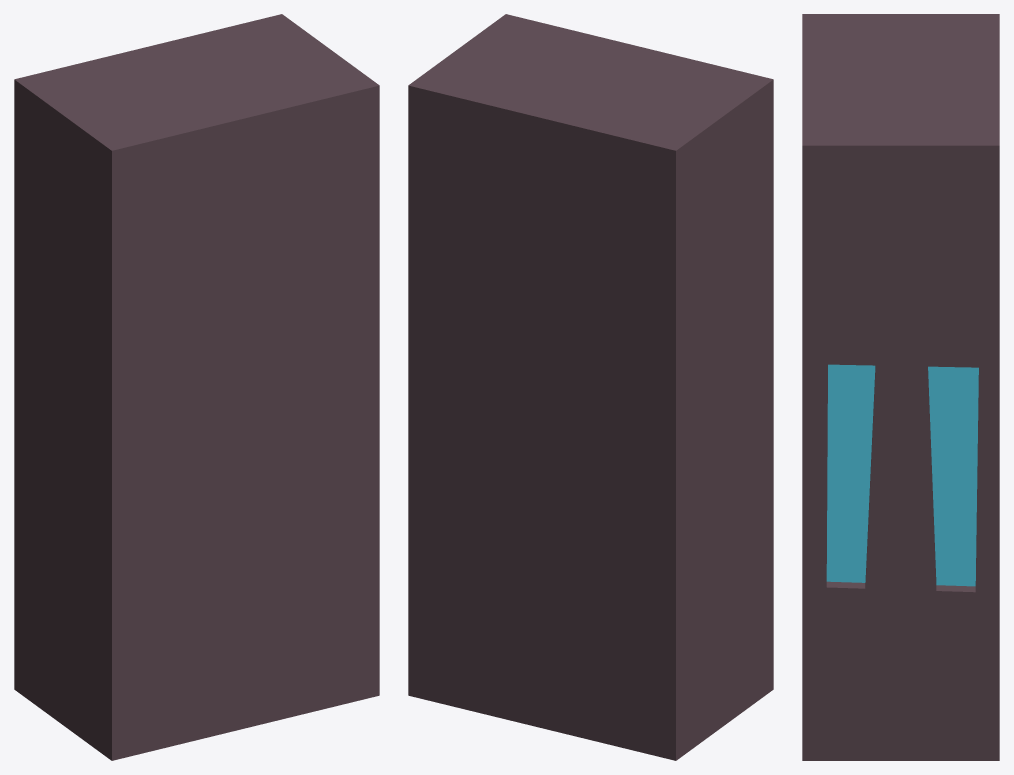
File: Building2.fbx
The picture shows the model from 3 angles, left to right: view 1: azimuth 30°, elevation 25°; view 2: azimuth 150°, elevation 25°; view 3: azimuth 270°, elevation 25°; orthographic projection.
Visible parts, largest first — view 1: Building2; view 2: Building2; view 3: Building2.
Part boxes in pixels (x1,y1,x2,y2): Building2: (14,14,379,760); Building2: (408,14,773,760); Building2: (802,14,999,760).
Bounding box in the file's own units: 632 × 1376 × 399.
